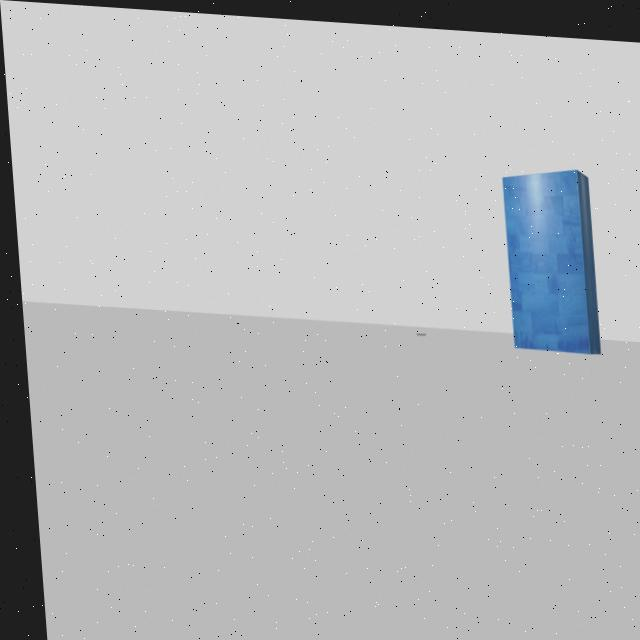bowl: (402, 318, 430, 333)
shelf: (491, 155, 604, 371)
